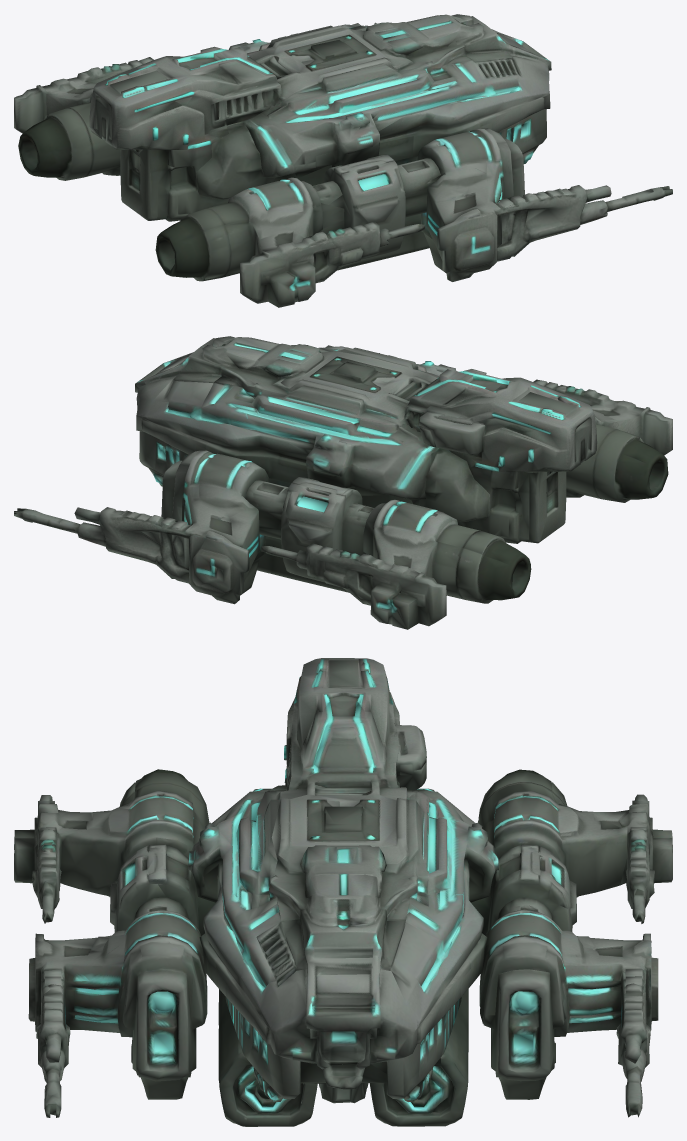
File: Nave7.glb
3 renders of one model, top to bottom at view 1: azimuth 30°, elevation 25°; view 2: azimuth 150°, elevation 25°; view 3: azimuth 270°, elevation 25°, orthographic. The views are drawn at different scales.
Parts seen in each view (by area): view 1: tripo_part_0, tripo_part_14, tripo_part_1, tripo_part_3, tripo_part_6, tripo_part_8, tripo_part_11, tripo_part_18, tripo_part_9, tripo_part_12, tripo_part_10, tripo_part_4 (+1 smaller); view 2: tripo_part_0, tripo_part_2, tripo_part_15, tripo_part_6, tripo_part_14, tripo_part_5, tripo_part_9, tripo_part_8, tripo_part_19, tripo_part_13, tripo_part_17, tripo_part_16 (+1 smaller); view 3: tripo_part_0, tripo_part_1, tripo_part_2, tripo_part_14, tripo_part_3, tripo_part_6, tripo_part_15, tripo_part_16, tripo_part_5, tripo_part_4, tripo_part_7, tripo_part_9 (+5 smaller).
Boxes of the visible parts, box(x1,y1,x2,y2) form: tripo_part_0: box(89, 14, 551, 160); tripo_part_14: box(155, 177, 425, 307); tripo_part_1: box(417, 128, 672, 281); tripo_part_3: box(243, 58, 519, 260); tripo_part_6: box(18, 82, 120, 180); tripo_part_8: box(120, 137, 228, 221); tripo_part_11: box(271, 65, 447, 115); tripo_part_18: box(196, 123, 274, 199); tripo_part_9: box(14, 57, 153, 133); tripo_part_12: box(397, 158, 440, 217); tripo_part_10: box(395, 109, 546, 165); tripo_part_4: box(337, 214, 429, 270); tripo_part_0: box(135, 336, 597, 483); tripo_part_2: box(14, 450, 269, 604); tripo_part_15: box(153, 381, 450, 505); tripo_part_6: box(363, 499, 531, 603); tripo_part_14: box(533, 379, 672, 502); tripo_part_5: box(245, 477, 387, 582); tripo_part_9: box(261, 543, 446, 629); tripo_part_8: box(449, 450, 566, 543); tripo_part_19: box(419, 451, 489, 521); tripo_part_13: box(419, 412, 485, 455); tripo_part_17: box(139, 431, 290, 487); tripo_part_16: box(161, 460, 265, 595); tripo_part_0: box(199, 658, 487, 1073); tripo_part_1: box(28, 910, 207, 1117); tripo_part_2: box(479, 909, 658, 1117); tripo_part_14: box(14, 769, 209, 923); tripo_part_3: box(110, 788, 296, 987); tripo_part_6: box(478, 769, 628, 897); tripo_part_15: box(390, 786, 498, 1003); tripo_part_16: box(483, 969, 555, 1099); tripo_part_5: box(471, 844, 576, 935); tripo_part_4: box(218, 989, 317, 1126); tripo_part_7: box(369, 989, 468, 1126); tripo_part_9: box(618, 794, 672, 923).
Bounding box in the file's own units: 0.9767 × 0.4104 × 0.9177.
1 material, 1 textured.
